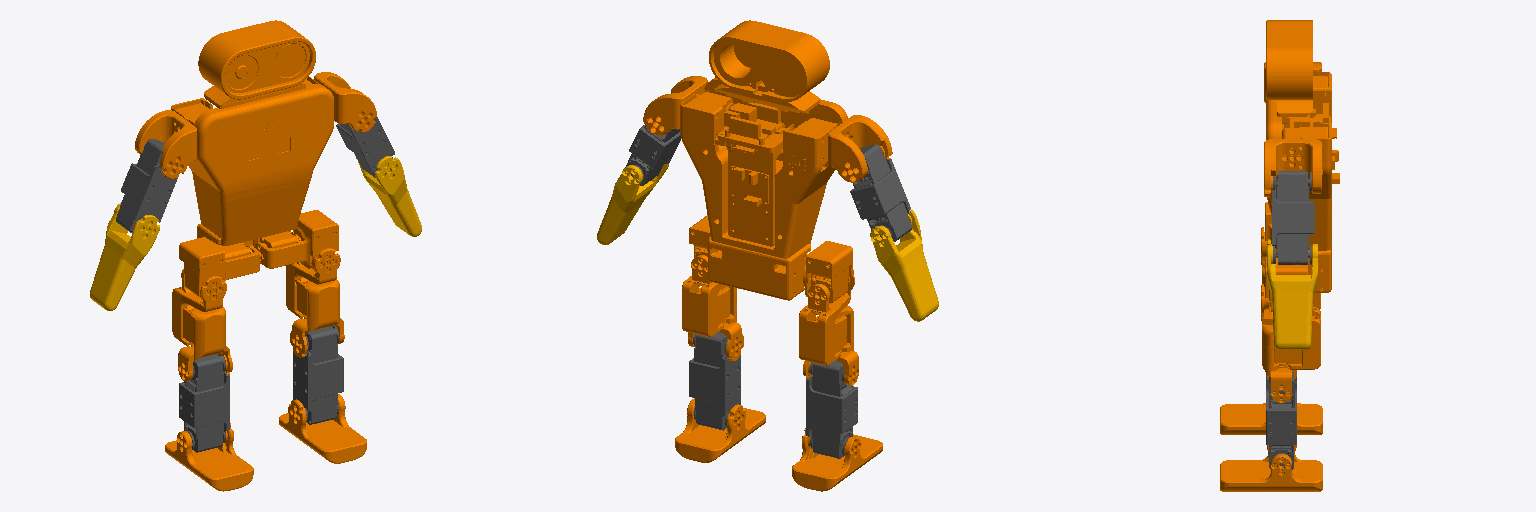
URDF robot description (opus):
<?xml version="1.0" ?>
<robot name="opus"><mujoco><compiler discardvisual="false" fusestatic="false" balanceinertia="true" meshdir="/home/christhomas/Developer/chris-robots/.cache/staging/opus" strippath="false"/></mujoco>
  
  <link name="Torso">
    <visual name="Torso_visual">
      <origin xyz="0 0 0" rpy="0 0 0"/>
      <geometry name="Torso_geometry">
        <mesh filename="meshes/Torso.stl"/>
      </geometry>
      <material name="Torso_material">
        <color rgba="0.97254902 0.52941176 0.0039215686 1"/>
      </material>
    </visual>
    <collision name="Torso_collision">
      <origin xyz="0 0 0" rpy="0 0 0"/>
      <geometry name="Torso_collision_geometry">
        <mesh filename="meshes/Torso.stl"/>
      </geometry>
    </collision>
    <inertial name="Torso_inertial">
      <mass value="1.4248854441999999"/>
      <inertia ixx="0.005876546341230139" iyy="0.007356520447853829" izz="0.0023081915779076282" ixy="9.865741890823175e-06" ixz="-7.80999743571344e-05" iyz="0.00042243371127857873"/>
      <origin xyz="0.0005354863436864513 0.006255555404813045 -0.00215239688022852" rpy="0 0 0"/>
    </inertial>
  </link>
  <joint name="right_shoulder_pitch" type="revolute">
    <origin xyz="-0.07825018475169969 -0.0003268979182753269 0.04615118291827534" rpy="1.5707963 0.0 1.5707963"/>
    <parent link="Torso"/>
    <child link="right_shoulder_yaw_2"/>
    <limit effort="80" velocity="5" lower="-1.7453293" upper="1.7453293"/>
    <axis xyz="0 0 1"/>
  </joint>
  <link name="right_shoulder_yaw_2">
    <visual name="right_shoulder_yaw_visual">
      <origin xyz="0 0 0" rpy="0 0 0"/>
      <geometry name="right_shoulder_yaw_geometry">
        <mesh filename="meshes/right_shoulder_yaw.stl"/>
      </geometry>
      <material name="right_shoulder_yaw_material">
        <color rgba="0.97254902 0.52941176 0.0039215686 1"/>
      </material>
    </visual>
    <collision name="right_shoulder_yaw_collision">
      <origin xyz="0 0 0" rpy="0 0 0"/>
      <geometry name="right_shoulder_yaw_collision_geometry">
        <mesh filename="meshes/right_shoulder_yaw.stl"/>
      </geometry>
    </collision>
    <inertial name="right_shoulder_yaw_inertial">
      <mass value="0.033295451"/>
      <inertia ixx="8.4337445e-06" iyy="1.8636933e-05" izz="1.8203633e-05" ixy="0" ixz="0" iyz="-1.3716156e-06"/>
      <origin xyz="-0.000140403 -0.0029678782 -0.016943877" rpy="0 0 0"/>
    </inertial>
  </link>
  <joint name="left_shoulder_pitch" type="revolute">
    <origin xyz="0.07804981964830031 -0.0003268980817246643 0.046151183081724674" rpy="-1.5707963071795867 0.0 1.5707963"/>
    <parent link="Torso"/>
    <child link="left_shoulder_yaw_2"/>
    <limit effort="80" velocity="5" lower="-1.7453293" upper="1.7453293"/>
    <axis xyz="0 0 1"/>
  </joint>
  <link name="left_shoulder_yaw_2">
    <visual name="left_shoulder_yaw_visual">
      <origin xyz="0 0 0" rpy="0 0 0"/>
      <geometry name="left_shoulder_yaw_geometry">
        <mesh filename="meshes/left_shoulder_yaw.stl"/>
      </geometry>
      <material name="left_shoulder_yaw_material">
        <color rgba="0.97254902 0.52941176 0.0039215686 1"/>
      </material>
    </visual>
    <collision name="left_shoulder_yaw_collision">
      <origin xyz="0 0 0" rpy="0 0 0"/>
      <geometry name="left_shoulder_yaw_collision_geometry">
        <mesh filename="meshes/left_shoulder_yaw.stl"/>
      </geometry>
    </collision>
    <inertial name="left_shoulder_yaw_inertial">
      <mass value="0.033295444"/>
      <inertia ixx="8.4337338e-06" iyy="1.8636945e-05" izz="1.8203656e-05" ixy="0" ixz="0" iyz="1.3716155e-06"/>
      <origin xyz="-0.00014038019 0.0029678794 -0.016943901" rpy="0 0 0"/>
    </inertial>
  </link>
  <joint name="right_shoulder_yaw" type="revolute">
    <origin xyz="-0.018825 -0.01629921 -0.03" rpy="0 -1.5707963 0"/>
    <parent link="right_shoulder_yaw_2"/>
    <child link="right_shoulder_yaw_motor"/>
    <limit effort="80" velocity="5" lower="-1.134464" upper="0.87266463"/>
    <axis xyz="0 0 1"/>
  </joint>
  <link name="right_shoulder_yaw_motor">
    <visual name="right_shoulder_yaw_motor_visual">
      <origin xyz="0 0 0" rpy="0 0 0"/>
      <geometry name="right_shoulder_yaw_motor_geometry">
        <mesh filename="meshes/right_shoulder_yaw_motor.stl"/>
      </geometry>
      <material name="right_shoulder_yaw_motor_material">
        <color rgba="0.4 0.4 0.4 1"/>
      </material>
    </visual>
    <collision name="right_shoulder_yaw_motor_collision">
      <origin xyz="0 0 0" rpy="0 0 0"/>
      <geometry name="right_shoulder_yaw_motor_collision_geometry">
        <mesh filename="meshes/right_shoulder_yaw_motor.stl"/>
      </geometry>
    </collision>
    <inertial name="right_shoulder_yaw_motor_inertial">
      <mass value="0.16128786299999998"/>
      <inertia ixx="0.0001282286460978685" iyy="5.714169492467823e-05" izz="0.00013402109939150868" ixy="-4.23975902915275e-05" ixz="-1.1438396608325486e-07" iyz="-2.4562146392694475e-07"/>
      <origin xyz="-0.015010430955184171 -0.0321876440344129 -0.01778065605422706" rpy="0 0 0"/>
    </inertial>
  </link>
  <joint name="right_hip_pitch" type="revolute">
    <origin xyz="-0.045750183202404315 -0.0003268958556716453 -0.10384882247403084" rpy="-1.5707963535897924 -4.64102059005711e-08 1.5707963000000003"/>
    <parent link="Torso"/>
    <child link="hip_yaw_right"/>
    <limit effort="80" velocity="5" lower="-1.5707963" upper="1.5707963"/>
    <axis xyz="0 0 -1"/>
  </joint>
  <link name="hip_yaw_right">
    <visual name="hip_yaw_right_visual">
      <origin xyz="0 0 0" rpy="0 0 0"/>
      <geometry name="hip_yaw_right_geometry">
        <mesh filename="meshes/hip_yaw_right.stl"/>
      </geometry>
      <material name="hip_yaw_right_material">
        <color rgba="0.97254902 0.52941176 0.0039215686 1"/>
      </material>
    </visual>
    <collision name="hip_yaw_right_collision">
      <origin xyz="0 0 0" rpy="0 0 0"/>
      <geometry name="hip_yaw_right_collision_geometry">
        <mesh filename="meshes/hip_yaw_right.stl"/>
      </geometry>
    </collision>
    <inertial name="hip_yaw_right_inertial">
      <mass value="0.093205286"/>
      <inertia ixx="3.5980932688562516e-05" iyy="3.079475868405247e-05" izz="3.3636884744911354e-05" ixy="-8.041868600591188e-08" ixz="-1.3271002457297246e-07" iyz="2.581583859459431e-07"/>
      <origin xyz="-0.007829567118794163 -0.00031535700327283827 0.016329714293974965" rpy="0 0 0"/>
    </inertial>
  </link>
  <joint name="left_hip_pitch" type="revolute">
    <origin xyz="0.045549819648300315 -0.0003268960191209584 -0.10384882247403084" rpy="1.5707963535897942 -4.6410206122615705e-08 1.5707963000000003"/>
    <parent link="Torso"/>
    <child link="hip_yaw_left"/>
    <limit effort="80" velocity="5" lower="-1.5707963" upper="1.5707963"/>
    <axis xyz="0 0 -1"/>
  </joint>
  <link name="hip_yaw_left">
    <visual name="hip_yaw_left_visual">
      <origin xyz="0 0 0" rpy="0 0 0"/>
      <geometry name="hip_yaw_left_geometry">
        <mesh filename="meshes/hip_yaw_left.stl"/>
      </geometry>
      <material name="hip_yaw_left_material">
        <color rgba="0.97254902 0.52941176 0.0039215686 1"/>
      </material>
    </visual>
    <collision name="hip_yaw_left_collision">
      <origin xyz="0 0 0" rpy="0 0 0"/>
      <geometry name="hip_yaw_left_collision_geometry">
        <mesh filename="meshes/hip_yaw_left.stl"/>
      </geometry>
    </collision>
    <inertial name="hip_yaw_left_inertial">
      <mass value="0.093205265"/>
      <inertia ixx="3.598094322914315e-05" iyy="3.079476768414559e-05" izz="3.36368829613345e-05" ixy="8.042017348231053e-08" ixz="-1.3271231186840551e-07" iyz="-2.581531582383297e-07"/>
      <origin xyz="-0.007829559049593036 0.00031535542694748764 0.01632971106200663" rpy="0 0 0"/>
    </inertial>
  </link>
  <joint name="left_shoulder_yaw" type="revolute">
    <origin xyz="-0.018825 0.01629921 -0.03" rpy="3.1415927 1.5707963 0"/>
    <parent link="left_shoulder_yaw_2"/>
    <child link="left_shoulder_yaw_motor"/>
    <limit effort="80" velocity="5" lower="-0.43633231" upper="1.5707963"/>
    <axis xyz="0 0 1"/>
  </joint>
  <link name="left_shoulder_yaw_motor">
    <visual name="left_shoulder_yaw_motor_visual">
      <origin xyz="0 0 0" rpy="0 0 0"/>
      <geometry name="left_shoulder_yaw_motor_geometry">
        <mesh filename="meshes/left_shoulder_yaw_motor.stl"/>
      </geometry>
      <material name="left_shoulder_yaw_motor_material">
        <color rgba="0.4 0.4 0.4 1"/>
      </material>
    </visual>
    <collision name="left_shoulder_yaw_motor_collision">
      <origin xyz="0 0 0" rpy="0 0 0"/>
      <geometry name="left_shoulder_yaw_motor_collision_geometry">
        <mesh filename="meshes/left_shoulder_yaw_motor.stl"/>
      </geometry>
    </collision>
    <inertial name="left_shoulder_yaw_motor_inertial">
      <mass value="0.161287862"/>
      <inertia ixx="0.00012823543337938677" iyy="5.713496544009841e-05" izz="0.00013402113588758784" ixy="4.236890115425267e-05" ixz="1.1438294712508704e-07" iyz="-2.4561958173304096e-07"/>
      <origin xyz="0.015010431336856738 -0.03218764425115605 -0.017780665683893915" rpy="0 0 0"/>
    </inertial>
  </link>
  <joint name="right_hip_roll" type="revolute">
    <origin xyz="-0.025500001628751698 0.012500001141551517 0.019359999918275368" rpy="9.282041333256968e-08 1.5707963 0.0"/>
    <parent link="hip_yaw_right"/>
    <child link="hip_roll_right"/>
    <limit effort="80" velocity="5" lower="-0.087266463" upper="1.5707963"/>
    <axis xyz="0 0 1"/>
  </joint>
  <link name="hip_roll_right">
    <visual name="hip_roll_right_visual">
      <origin xyz="0 0 0" rpy="0 0 0"/>
      <geometry name="hip_roll_right_geometry">
        <mesh filename="meshes/hip_roll_right.stl"/>
      </geometry>
      <material name="hip_roll_right_material">
        <color rgba="0.97254902 0.52941176 0.0039215686 1"/>
      </material>
    </visual>
    <collision name="hip_roll_right_collision">
      <origin xyz="0 0 0" rpy="0 0 0"/>
      <geometry name="hip_roll_right_collision_geometry">
        <mesh filename="meshes/hip_roll_right.stl"/>
      </geometry>
    </collision>
    <inertial name="hip_roll_right_inertial">
      <mass value="0.09928883999999999"/>
      <inertia ixx="5.458205858977241e-05" iyy="3.141850717636788e-05" izz="3.7405777942224174e-05" ixy="6.085393720803044e-08" ixz="-1.3657186231475788e-08" iyz="-2.9398529041120327e-06"/>
      <origin xyz="3.956240018911987e-05 0.044547258633220656 0.027195276046662446" rpy="0 0 0"/>
    </inertial>
  </link>
  <joint name="left_hip_roll" type="revolute">
    <origin xyz="-0.02550000297464769 -0.012500001000000007 0.01936000008172467" rpy="-3.1415926071795863 -1.5707963 0.0"/>
    <parent link="hip_yaw_left"/>
    <child link="hip_roll_left"/>
    <limit effort="80" velocity="5" lower="-1.5707963" upper="0.087266463"/>
    <axis xyz="0 0 1"/>
  </joint>
  <link name="hip_roll_left">
    <visual name="hip_roll_left_visual">
      <origin xyz="0 0 0" rpy="0 0 0"/>
      <geometry name="hip_roll_left_geometry">
        <mesh filename="meshes/hip_roll_left.stl"/>
      </geometry>
      <material name="hip_roll_left_material">
        <color rgba="0.97254902 0.52941176 0.0039215686 1"/>
      </material>
    </visual>
    <collision name="hip_roll_left_collision">
      <origin xyz="0 0 0" rpy="0 0 0"/>
      <geometry name="hip_roll_left_collision_geometry">
        <mesh filename="meshes/hip_roll_left.stl"/>
      </geometry>
    </collision>
    <inertial name="hip_roll_left_inertial">
      <mass value="0.099288915"/>
      <inertia ixx="5.458213655994398e-05" iyy="3.141854560883799e-05" izz="3.7405827480720235e-05" ixy="-6.085408209304377e-08" ixz="1.3657291982195571e-08" iyz="-2.939824633673289e-06"/>
      <origin xyz="-3.956346057105379e-05 0.0445472299493746 0.027195280356507395" rpy="0 0 0"/>
    </inertial>
  </link>
  <joint name="right_elbow_yaw" type="revolute">
    <origin xyz="-0.030003116165437632 -0.06434189265302206 -0.0001500039283693095" rpy="3.141592518707449 -1.9613804580487226e-08 2.7052603000000013"/>
    <parent link="right_shoulder_yaw_motor"/>
    <child link="right_hand"/>
    <limit effort="80" velocity="5" lower="-1.5707963" upper="1.5707963"/>
    <axis xyz="0 0 1"/>
  </joint>
  <link name="right_hand">
    <visual name="right_hand_visual">
      <origin xyz="0 0 0" rpy="0 0 0"/>
      <geometry name="right_hand_geometry">
        <mesh filename="meshes/right_hand.stl"/>
      </geometry>
      <material name="right_hand_material">
        <color rgba="0.98039216 0.71372549 0.0039215686 1"/>
      </material>
    </visual>
    <collision name="right_hand_collision">
      <origin xyz="0 0 0" rpy="0 0 0"/>
      <geometry name="right_hand_collision_geometry">
        <mesh filename="meshes/right_hand.stl"/>
      </geometry>
    </collision>
    <inertial name="right_hand_inertial">
      <mass value="0.057633913"/>
      <inertia ixx="4.3605723e-05" iyy="1.217183e-05" izz="3.5510016e-05" ixy="0" ixz="0" iyz="1.2142684e-06"/>
      <origin xyz="-3.1209033e-05 -0.045881174 0.018344256" rpy="0 0 0"/>
    </inertial>
  </link>
  <joint name="left_elbow_yaw" type="revolute">
    <origin xyz="0.030003117101606053 -0.06434189183411611 -0.0001500013458960018" rpy="3.1415926071795863 -1.7763568394002505e-15 -2.70526039"/>
    <parent link="left_shoulder_yaw_motor"/>
    <child link="left_hand"/>
    <limit effort="80" velocity="5" lower="-1.5707963" upper="1.5707963"/>
    <axis xyz="0 0 1"/>
  </joint>
  <link name="left_hand">
    <visual name="left_hand_visual">
      <origin xyz="0 0 0" rpy="0 0 0"/>
      <geometry name="left_hand_geometry">
        <mesh filename="meshes/left_hand.stl"/>
      </geometry>
      <material name="left_hand_material">
        <color rgba="0.98039216 0.71372549 0.0039215686 1"/>
      </material>
    </visual>
    <collision name="left_hand_collision">
      <origin xyz="0 0 0" rpy="0 0 0"/>
      <geometry name="left_hand_collision_geometry">
        <mesh filename="meshes/left_hand.stl"/>
      </geometry>
    </collision>
    <inertial name="left_hand_inertial">
      <mass value="0.057634594"/>
      <inertia ixx="4.3606206e-05" iyy="1.2172072e-05" izz="3.5510313e-05" ixy="0" ixz="0" iyz="1.2144458e-06"/>
      <origin xyz="3.124228e-05 -0.045881024 0.018344103" rpy="0 0 0"/>
    </inertial>
  </link>
  <joint name="right_hip_yaw" type="revolute">
    <origin xyz="-1.734723475976807e-18 0.06776001387753286 0.015000000939161373" rpy="-1.5707963000000003 0.0 0.0"/>
    <parent link="hip_roll_right"/>
    <child link="knee_pitch_left"/>
    <limit effort="80" velocity="5" lower="-0.78539816" upper="0.78539816"/>
    <axis xyz="0 0 -1"/>
  </joint>
  <link name="knee_pitch_left">
    <visual name="knee_pitch_left_visual">
      <origin xyz="0 0 0" rpy="0 0 0"/>
      <geometry name="knee_pitch_left_geometry">
        <mesh filename="meshes/knee_pitch_left.stl"/>
      </geometry>
      <material name="knee_pitch_left_material">
        <color rgba="0.97254902 0.52941176 0.0039215686 1"/>
      </material>
    </visual>
    <collision name="knee_pitch_left_collision">
      <origin xyz="0 0 0" rpy="0 0 0"/>
      <geometry name="knee_pitch_left_collision_geometry">
        <mesh filename="meshes/knee_pitch_left.stl"/>
      </geometry>
    </collision>
    <inertial name="knee_pitch_left_inertial">
      <mass value="0.017415556"/>
      <inertia ixx="8.6779628e-06" iyy="1.0846052e-05" izz="4.8769685e-06" ixy="0" ixz="0" iyz="1.5102056e-06"/>
      <origin xyz="0.0008320716 0.0066344401 -0.0053563614" rpy="0 0 0"/>
    </inertial>
  </link>
  <joint name="left_hip_yaw" type="revolute">
    <origin xyz="-1.734723475976807e-18 0.06776001212246713 0.01499999906083864" rpy="-1.5707963071795865 0.0 0.0"/>
    <parent link="hip_roll_left"/>
    <child link="knee_pitch_right"/>
    <limit effort="80" velocity="5" lower="-0.78539816" upper="0.78539816"/>
    <axis xyz="0 0 -1"/>
  </joint>
  <link name="knee_pitch_right">
    <visual name="knee_pitch_right_visual">
      <origin xyz="0 0 0" rpy="0 0 0"/>
      <geometry name="knee_pitch_right_geometry">
        <mesh filename="meshes/knee_pitch_right.stl"/>
      </geometry>
      <material name="knee_pitch_right_material">
        <color rgba="0.97254902 0.52941176 0.0039215686 1"/>
      </material>
    </visual>
    <collision name="knee_pitch_right_collision">
      <origin xyz="0 0 0" rpy="0 0 0"/>
      <geometry name="knee_pitch_right_collision_geometry">
        <mesh filename="meshes/knee_pitch_right.stl"/>
      </geometry>
    </collision>
    <inertial name="knee_pitch_right_inertial">
      <mass value="0.017415406"/>
      <inertia ixx="8.6779408e-06" iyy="1.0845969e-05" izz="4.8769057e-06" ixy="0" ixz="0" iyz="1.5102123e-06"/>
      <origin xyz="-0.00083189379 0.0066344111 -0.0053564637" rpy="0 0 0"/>
    </inertial>
  </link>
  <joint name="right_knee_pitch" type="revolute">
    <origin xyz="0.018825 0 0.02221" rpy="1.5707963 0 -1.5707963"/>
    <parent link="knee_pitch_left"/>
    <child link="right_knee_pitch_motor"/>
    <limit effort="80" velocity="5" lower="-1.5707963" upper="1.5707963"/>
    <axis xyz="0 0 -1"/>
  </joint>
  <link name="right_knee_pitch_motor">
    <visual name="right_knee_pitch_motor_visual">
      <origin xyz="0 0 0" rpy="0 0 0"/>
      <geometry name="right_knee_pitch_motor_geometry">
        <mesh filename="meshes/right_knee_pitch_motor.stl"/>
      </geometry>
      <material name="right_knee_pitch_motor_material">
        <color rgba="0.4 0.4 0.4 1"/>
      </material>
    </visual>
    <collision name="right_knee_pitch_motor_collision">
      <origin xyz="0 0 0" rpy="0 0 0"/>
      <geometry name="right_knee_pitch_motor_collision_geometry">
        <mesh filename="meshes/right_knee_pitch_motor.stl"/>
      </geometry>
    </collision>
    <inertial name="right_knee_pitch_motor_inertial">
      <mass value="0.164074011"/>
      <inertia ixx="0.0001759891275884663" iyy="3.8396680240248e-05" izz="0.00016173166940127508" ixy="8.172012592062923e-09" ixz="-5.793353129267912e-16" iyz="-5.5025788380171526e-12"/>
      <origin xyz="5.2852977297875645e-11 0.03886000044248171 0.01767796761874614" rpy="0 0 0"/>
    </inertial>
  </link>
  <joint name="left_knee_pitch" type="revolute">
    <origin xyz="-0.018825 0 0.02221" rpy="-1.5707963 0 -1.5707963"/>
    <parent link="knee_pitch_right"/>
    <child link="left_knee_pitch_motor"/>
    <limit effort="80" velocity="5" lower="-1.5707963" upper="1.5707963"/>
    <axis xyz="0 0 -1"/>
  </joint>
  <link name="left_knee_pitch_motor">
    <visual name="left_knee_pitch_motor_visual">
      <origin xyz="0 0 0" rpy="0 0 0"/>
      <geometry name="left_knee_pitch_motor_geometry">
        <mesh filename="meshes/left_knee_pitch_motor.stl"/>
      </geometry>
      <material name="left_knee_pitch_motor_material">
        <color rgba="0.4 0.4 0.4 1"/>
      </material>
    </visual>
    <collision name="left_knee_pitch_motor_collision">
      <origin xyz="0 0 0" rpy="0 0 0"/>
      <geometry name="left_knee_pitch_motor_collision_geometry">
        <mesh filename="meshes/left_knee_pitch_motor.stl"/>
      </geometry>
    </collision>
    <inertial name="left_knee_pitch_motor_inertial">
      <mass value="0.164074011"/>
      <inertia ixx="0.00017599112233775987" iyy="3.839863803219483e-05" izz="0.0001617317061595657" ixy="-8.175358152241977e-09" ixz="-7.329977678382562e-11" iyz="-1.0385897269029696e-06"/>
      <origin xyz="-1.2427714698980854e-10 -0.03886000031058351 0.017450949790695548" rpy="0 0 0"/>
    </inertial>
  </link>
  <joint name="right_ankle_pitch" type="revolute">
    <origin xyz="0.0 0.07772000162667812 2.0870670330852548e-09" rpy="9.282041357749903e-08 0.0 0.0"/>
    <parent link="right_knee_pitch_motor"/>
    <child link="foot_right"/>
    <limit effort="80" velocity="5" lower="-1.5707963" upper="1.5707963"/>
    <axis xyz="0 0 1"/>
  </joint>
  <link name="foot_right">
    <visual name="foot_right_visual">
      <origin xyz="0 0 0" rpy="0 0 0"/>
      <geometry name="foot_right_geometry">
        <mesh filename="meshes/foot_right.stl"/>
      </geometry>
      <material name="foot_right_material">
        <color rgba="0.97254902 0.52941176 0.0039215686 1"/>
      </material>
    </visual>
    <collision name="foot_right_collision">
      <origin xyz="0 0 0" rpy="0 0 0"/>
      <geometry name="foot_right_collision_geometry">
        <mesh filename="meshes/foot_right.stl"/>
      </geometry>
    </collision>
    <inertial name="foot_right_inertial">
      <mass value="0.074314817"/>
      <inertia ixx="1.9631338e-05" iyy="7.1603877e-05" izz="6.0479365e-05" ixy="1.1859313e-06" ixz="0" iyz="0"/>
      <origin xyz="-0.0090965446 0.022946882 0.018633716" rpy="0 0 0"/>
    </inertial>
  </link>
  <joint name="left_ankle_pitch" type="revolute">
    <origin xyz="0.0 -0.07771999985844844 -0.000499991045895997" rpy="9.282041357749903e-08 0.0 0.0"/>
    <parent link="left_knee_pitch_motor"/>
    <child link="foot_left"/>
    <limit effort="80" velocity="5" lower="-1.5707963" upper="1.5707963"/>
    <axis xyz="0 0 1"/>
  </joint>
  <link name="foot_left">
    <visual name="foot_left_visual">
      <origin xyz="0 0 0" rpy="0 0 0"/>
      <geometry name="foot_left_geometry">
        <mesh filename="meshes/foot_left.stl"/>
      </geometry>
      <material name="foot_left_material">
        <color rgba="0.97254902 0.52941176 0.0039215686 1"/>
      </material>
    </visual>
    <collision name="foot_left_collision">
      <origin xyz="0 0 0" rpy="0 0 0"/>
      <geometry name="foot_left_collision_geometry">
        <mesh filename="meshes/foot_left.stl"/>
      </geometry>
    </collision>
    <inertial name="foot_left_inertial">
      <mass value="0.074314614"/>
      <inertia ixx="1.9631258e-05" iyy="7.1603127e-05" izz="6.0478707e-05" ixy="-1.18593e-06" ixz="0" iyz="0"/>
      <origin xyz="-0.0090963699 -0.022946876 0.018633446" rpy="0 0 0"/>
    </inertial>
  </link>
</robot>

--- Render facts (derived) ---
The picture shows the robot from 3 angles, left to right: view 1: azimuth 30°, elevation 25°; view 2: azimuth 150°, elevation 25°; view 3: azimuth 270°, elevation 25°; orthographic projection.
Robot: opus — 17 links, 16 joints (16 revolute); root link Torso; default pose: every joint at zero.
Links seen in each view (by area): view 1: Torso, right_knee_pitch_motor, left_knee_pitch_motor, right_hand, right_shoulder_yaw_motor, foot_left, foot_right, hip_yaw_right, right_shoulder_yaw_2, hip_yaw_left, left_hand, knee_pitch_right (+5 smaller); view 2: Torso, right_knee_pitch_motor, left_knee_pitch_motor, right_hand, right_shoulder_yaw_motor, hip_roll_right, foot_left, foot_right, hip_roll_left, right_shoulder_yaw_2, left_hand, hip_yaw_right (+5 smaller); view 3: Torso, left_shoulder_yaw_motor, left_hand, foot_left, left_shoulder_yaw_2, foot_right, left_knee_pitch_motor, hip_roll_left, knee_pitch_right.
Link boxes in pixels (x1=…): Torso: x1=171, y1=20, x2=333, y2=259; right_knee_pitch_motor: x1=179, y1=354, x2=229, y2=452; left_knee_pitch_motor: x1=293, y1=325, x2=343, y2=424; right_hand: x1=90, y1=203, x2=159, y2=310; right_shoulder_yaw_motor: x1=116, y1=139, x2=179, y2=232; foot_left: x1=279, y1=394, x2=366, y2=463; foot_right: x1=165, y1=423, x2=253, y2=491; hip_yaw_right: x1=179, y1=237, x2=259, y2=297; right_shoulder_yaw_2: x1=135, y1=110, x2=196, y2=178; hip_yaw_left: x1=254, y1=210, x2=338, y2=268; left_hand: x1=356, y1=156, x2=421, y2=236; knee_pitch_right: x1=290, y1=279, x2=344, y2=357; Torso: x1=680, y1=20, x2=847, y2=300; right_knee_pitch_motor: x1=806, y1=360, x2=857, y2=458; left_knee_pitch_motor: x1=689, y1=331, x2=740, y2=430; right_hand: x1=870, y1=210, x2=938, y2=321; right_shoulder_yaw_motor: x1=850, y1=144, x2=911, y2=241; hip_roll_right: x1=799, y1=275, x2=854, y2=365; foot_left: x1=675, y1=398, x2=765, y2=462; foot_right: x1=792, y1=428, x2=882, y2=491; hip_roll_left: x1=682, y1=255, x2=729, y2=336; right_shoulder_yaw_2: x1=828, y1=115, x2=892, y2=182; left_hand: x1=597, y1=164, x2=668, y2=244; hip_yaw_right: x1=803, y1=241, x2=853, y2=303; Torso: x1=1266, y1=20, x2=1339, y2=292; left_shoulder_yaw_motor: x1=1272, y1=171, x2=1314, y2=264; left_hand: x1=1267, y1=239, x2=1317, y2=349; foot_left: x1=1220, y1=445, x2=1322, y2=491; left_shoulder_yaw_2: x1=1264, y1=139, x2=1321, y2=196; foot_right: x1=1220, y1=403, x2=1322, y2=434; left_knee_pitch_motor: x1=1266, y1=372, x2=1296, y2=470; hip_roll_left: x1=1261, y1=284, x2=1320, y2=369; knee_pitch_right: x1=1262, y1=323, x2=1296, y2=402.
Bounding box of the posed robot: 0.3641 × 0.1167 × 0.4552 m (x, y, z).
Meshes: 17 distinct files referenced, 17 mesh visuals loaded (17 binary STL).
